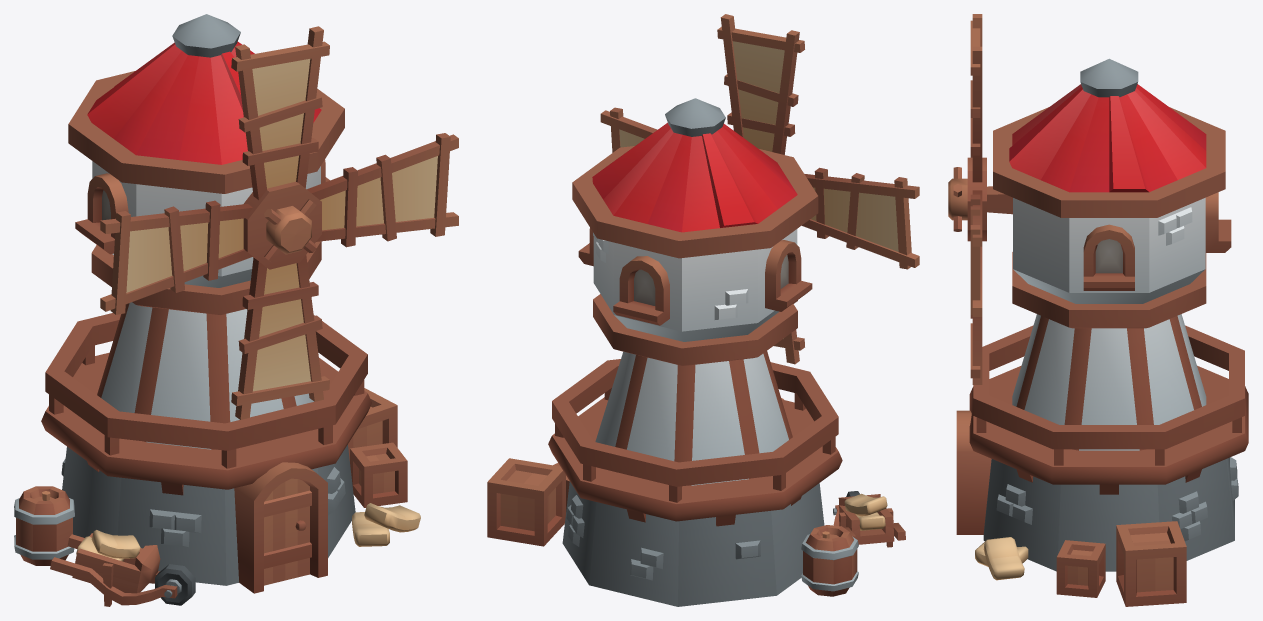
File: building_windmill_red.glb
3 views of the same model, side by side, from view 1: azimuth 30°, elevation 25°; view 2: azimuth 150°, elevation 25°; view 3: azimuth 270°, elevation 25° (orthographic). The views are drawn at different scales.
Parts seen in each view (by area): view 1: building_windmill_red, building_windmill_top_fan_red, building_windmill_top_red; view 2: building_windmill_red, building_windmill_top_red, building_windmill_top_fan_red; view 3: building_windmill_red, building_windmill_top_red, building_windmill_top_fan_red.
Boxes of the visible parts, x1,y1,x2,y2 form: building_windmill_red: (14,302,420,606); building_windmill_top_fan_red: (100,26,458,419); building_windmill_top_red: (68,14,344,314); building_windmill_red: (487,351,905,606); building_windmill_top_red: (572,98,818,365); building_windmill_top_fan_red: (600,14,919,364); building_windmill_red: (956,314,1248,606); building_windmill_top_red: (987,58,1231,328); building_windmill_top_fan_red: (948,14,986,384).
Size of the model in its own units: 1.13 by 1.46 by 0.8165.
1 material, 1 textured.
